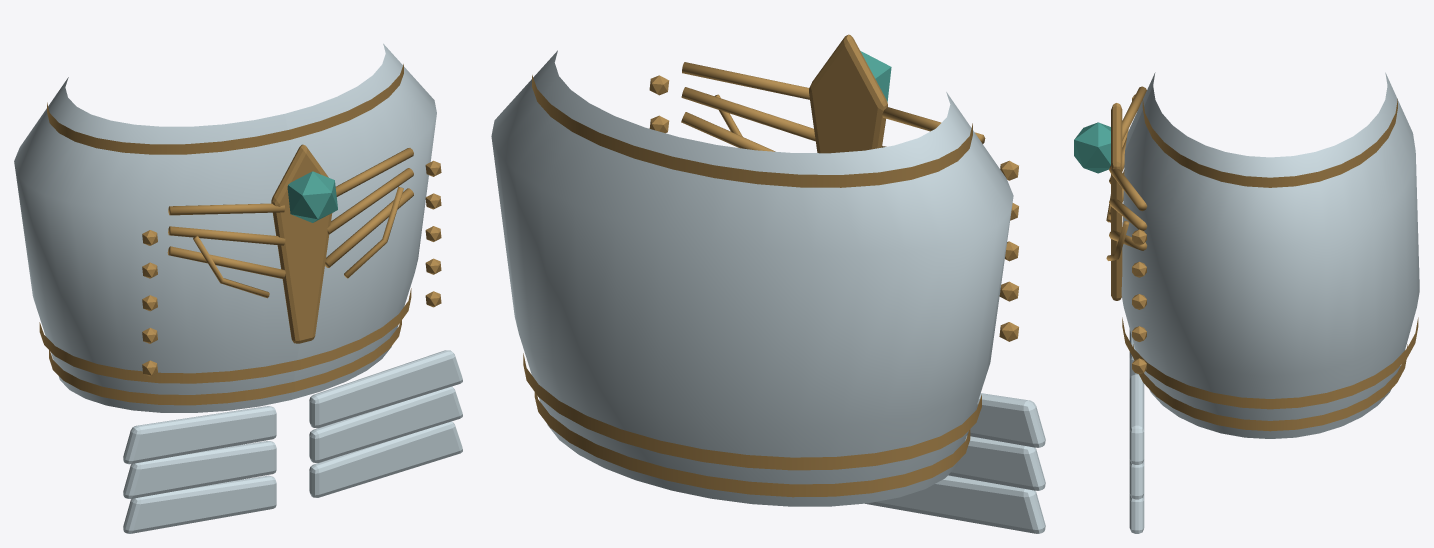
The model's file is ValkyrieArmor.glb.
3 renders of one model, left to right at view 1: azimuth 30°, elevation 25°; view 2: azimuth 150°, elevation 25°; view 3: azimuth 270°, elevation 25°, orthographic. The views are drawn at different scales.
Parts seen in each view (by area): view 1: Model.001; view 2: Model.001; view 3: Model.001.
Part boxes in pixels (x1,y1,x2,y2): Model.001: (14,43,462,533); Model.001: (491,34,1045,533); Model.001: (1074,72,1419,533).
Size of the model in its own units: 0.56 by 0.5165 by 0.4278.
